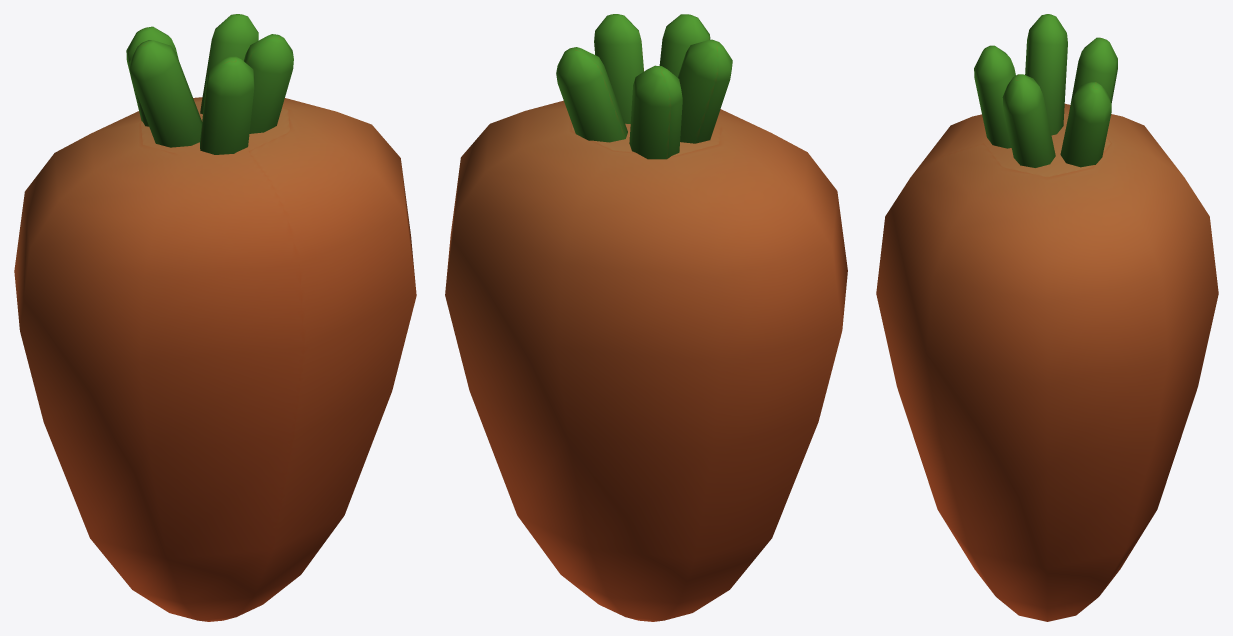
Rendered from carrot.glb.
3 renders of one model, left to right at view 1: azimuth 30°, elevation 25°; view 2: azimuth 150°, elevation 25°; view 3: azimuth 270°, elevation 25°, orthographic. The views are drawn at different scales.
Visible parts, largest first — view 1: geometry_0; view 2: geometry_0; view 3: geometry_0.
Part boxes in pixels (bbox=[...]): geometry_0: bbox=[14, 14, 416, 621]; geometry_0: bbox=[445, 14, 847, 621]; geometry_0: bbox=[876, 14, 1218, 621].
Size of the model in its own units: 0.2602 by 0.3744 by 0.2049.
1 material, 1 textured.
